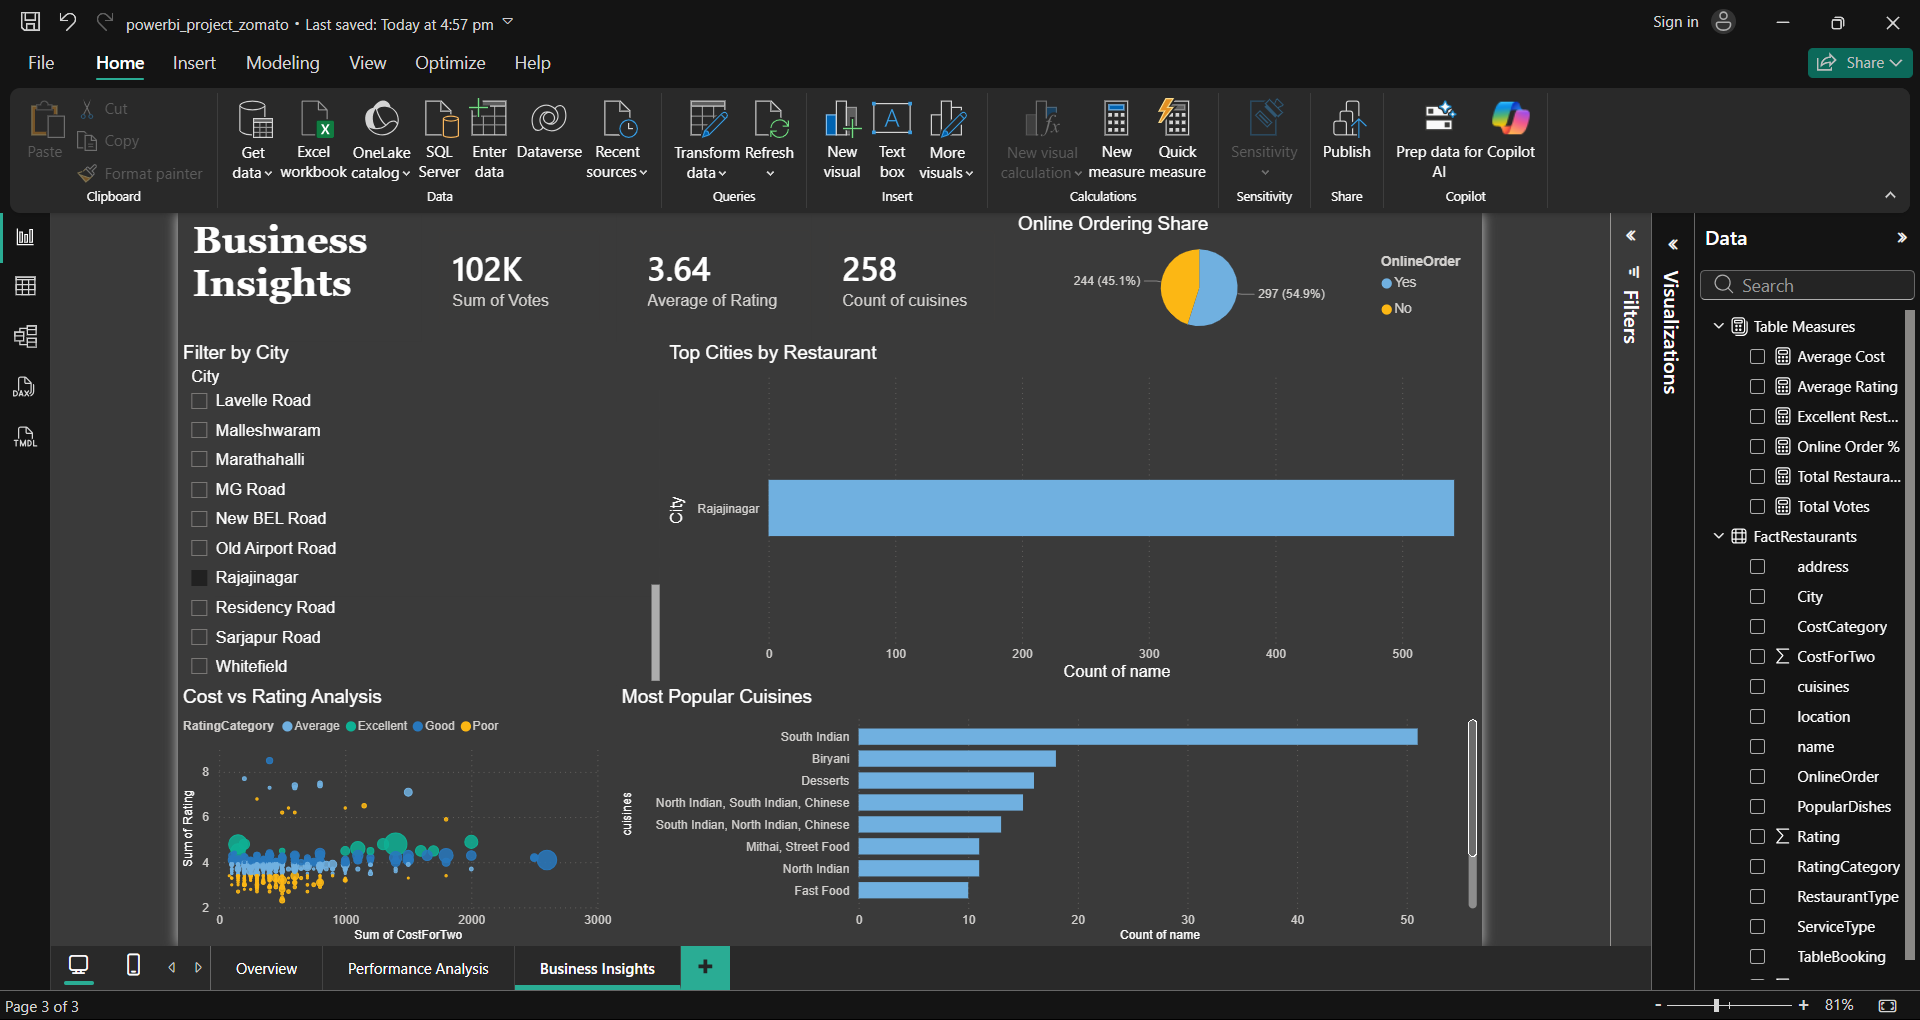

This screenshot's page, from the dashboard's own definition file:
{"tool":"powerbi","page":{"name":"Business Insights","canvas":[1280,720],"ordinal":2},"visuals":[{"type":"textbox","box":[9.6,0,279.9,126.2],"z":0},{"type":"slicer","title":"Filter by City","fields":{"Values":["FactRestaurants.City"]},"box":[0,126.2,477.5,337.6],"z":1000},{"type":"clusteredBarChart","title":"Most Popular Cuisines","fields":{"Category":["FactRestaurants.cuisines"],"Y":["CountNonNull(FactRestaurants.name)"]},"box":[430.9,463.8,849.4,256.6],"z":2000},{"type":"scatterChart","title":"Cost vs Rating Analysis","fields":{"X":["Sum(FactRestaurants.CostForTwo)"],"Y":["Sum(FactRestaurants.Rating)"],"Size":["Sum(FactRestaurants.Votes)"],"Series":["FactRestaurants.RatingCategory"],"Category":["FactRestaurants.name"]},"box":[0,463.8,430.9,256.6],"z":3000},{"type":"barChart","title":"Top Cities by Restaurant","fields":{"Category":["FactRestaurants.City"],"Y":["CountNonNull(FactRestaurants.name)"]},"box":[477.5,126.2,802.7,337.6],"z":4000},{"type":"cardVisual","fields":{"Data":["Sum(FactRestaurants.Votes)"]},"box":[238.8,0,192.1,126.2],"z":5000},{"type":"cardVisual","fields":{"Data":["Avg(FactRestaurants.Rating)"]},"box":[430.9,0,208.6,126.2],"z":6000},{"type":"cardVisual","fields":{"Data":["Count(FactRestaurants.cuisines)"]},"box":[621.6,0,197.6,126.2],"z":7000},{"type":"pieChart","title":"Online Ordering Share","fields":{"Category":["FactRestaurants.OnlineOrder"],"Y":["CountNonNull(FactRestaurants.name)"]},"box":[819.2,0,461.1,126.2],"z":8000}]}

Visuals, with their boxes on the page's 1280x720 design canvas (x1, y1, x2, y2). These are canvas units, not pixel positions in the 1920x1020 screenshot, which may show the page scaled, cropped or inside an application window:
textbox: box=[10, 0, 290, 126]
"Filter by City" slicer: box=[0, 126, 478, 464]
"Most Popular Cuisines" clusteredBarChart: box=[431, 464, 1280, 720]
"Cost vs Rating Analysis" scatterChart: box=[0, 464, 431, 720]
"Top Cities by Restaurant" barChart: box=[478, 126, 1280, 464]
cardVisual - Sum(FactRestaurants.Votes): box=[239, 0, 431, 126]
cardVisual - Avg(FactRestaurants.Rating): box=[431, 0, 640, 126]
cardVisual - Count(FactRestaurants.cuisines): box=[622, 0, 819, 126]
"Online Ordering Share" pieChart: box=[819, 0, 1280, 126]
